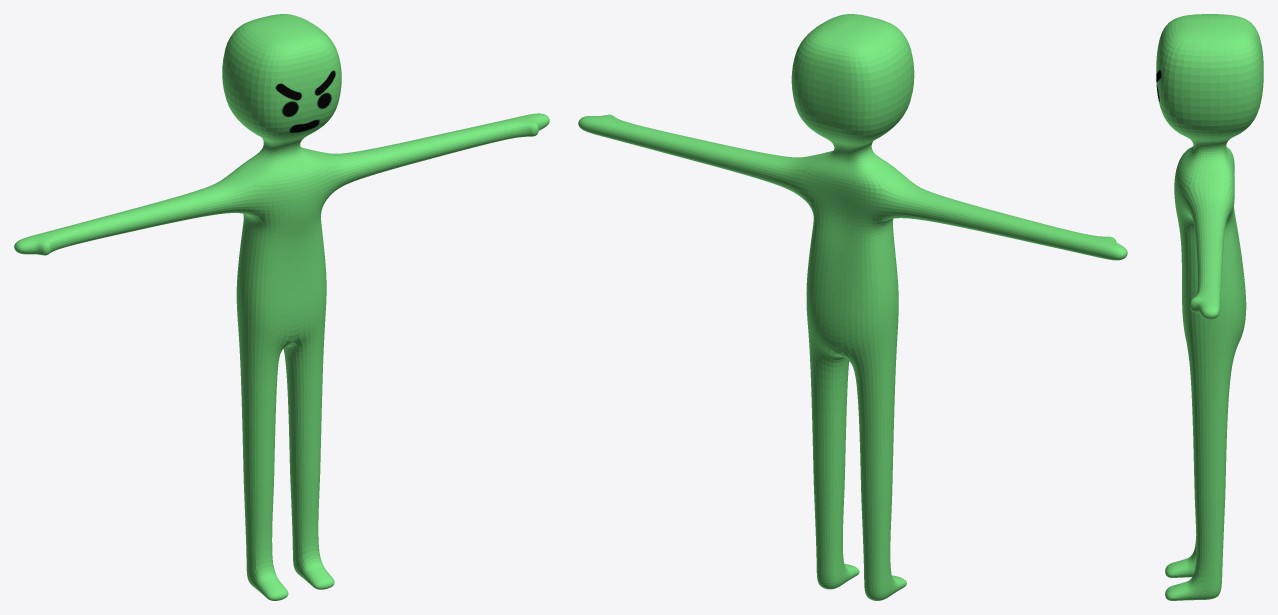
File: bob.glb
3 renders of one model, left to right at view 1: azimuth 30°, elevation 25°; view 2: azimuth 150°, elevation 25°; view 3: azimuth 270°, elevation 25°, orthographic. The views are drawn at different scales.
Parts seen in each view (by area): view 1: Cube; view 2: Cube; view 3: Cube.
Part boxes in pixels (x1,y1,x2,y2): Cube: [14, 14, 549, 600]; Cube: [578, 14, 1127, 600]; Cube: [1156, 14, 1263, 600].
Bounding box in the file's own units: 2.73 × 2.72 × 0.4695.
Materials: 1 (1 with a texture image).
